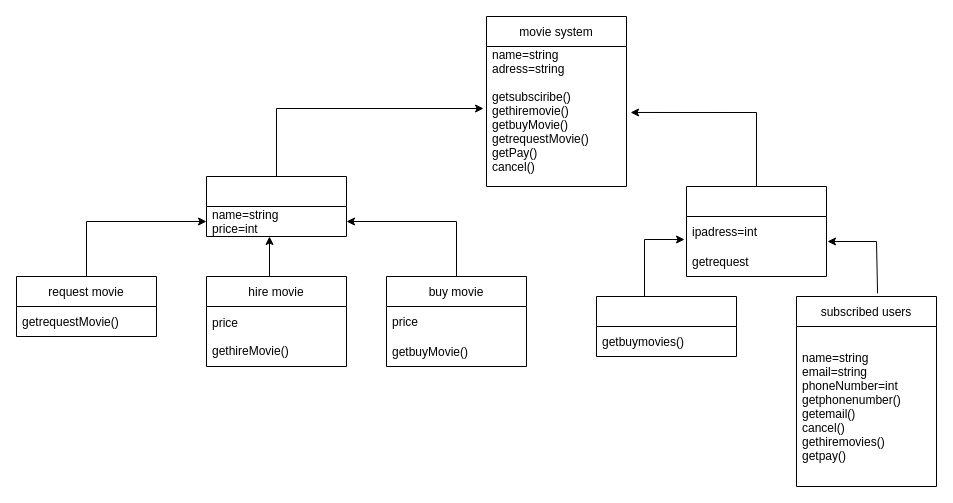
This 953x503 diagram has some shape labels left out. Each missing label, with the box of its shape:
movies: (206, 176, 346, 236)
randomusers: (596, 296, 736, 356)
users: (686, 186, 826, 276)
